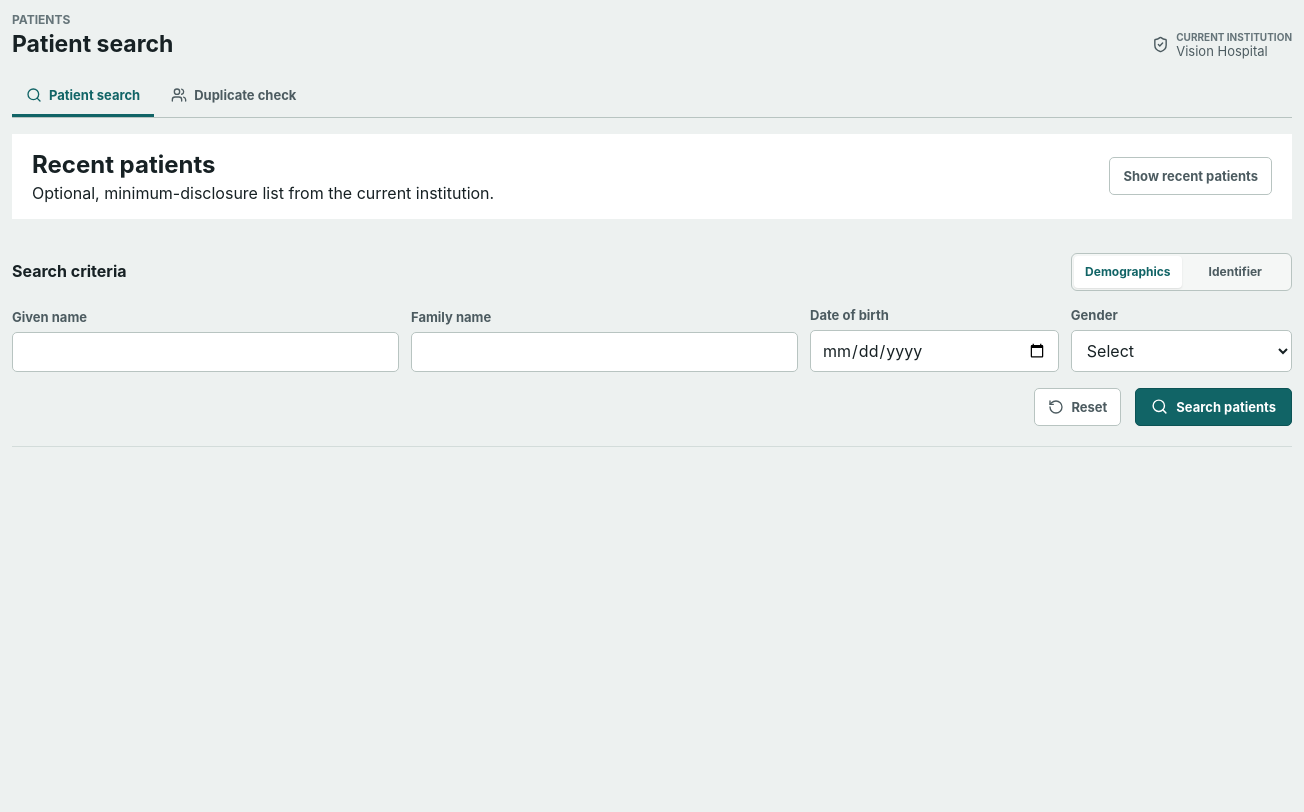
Test: PatientSearchPage › submits structured demographic criteria and renders minimum-disclosure results
The image size is (1304, 812).
In the field labelled "Family name": (604, 352) [411,332,798,372], type "Patient"
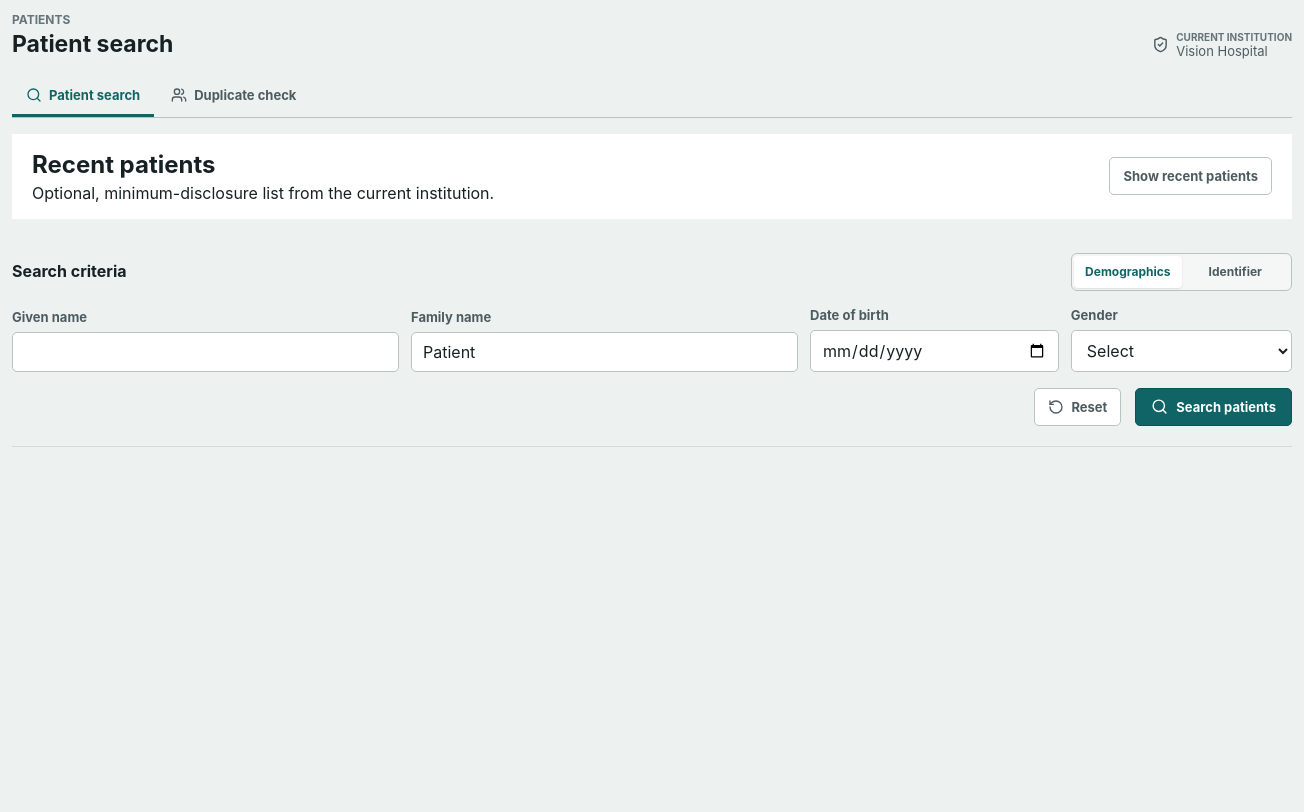
In the date field labelled "Date of birth": (934, 351) [810,330,1059,372], type "1980-02-03"
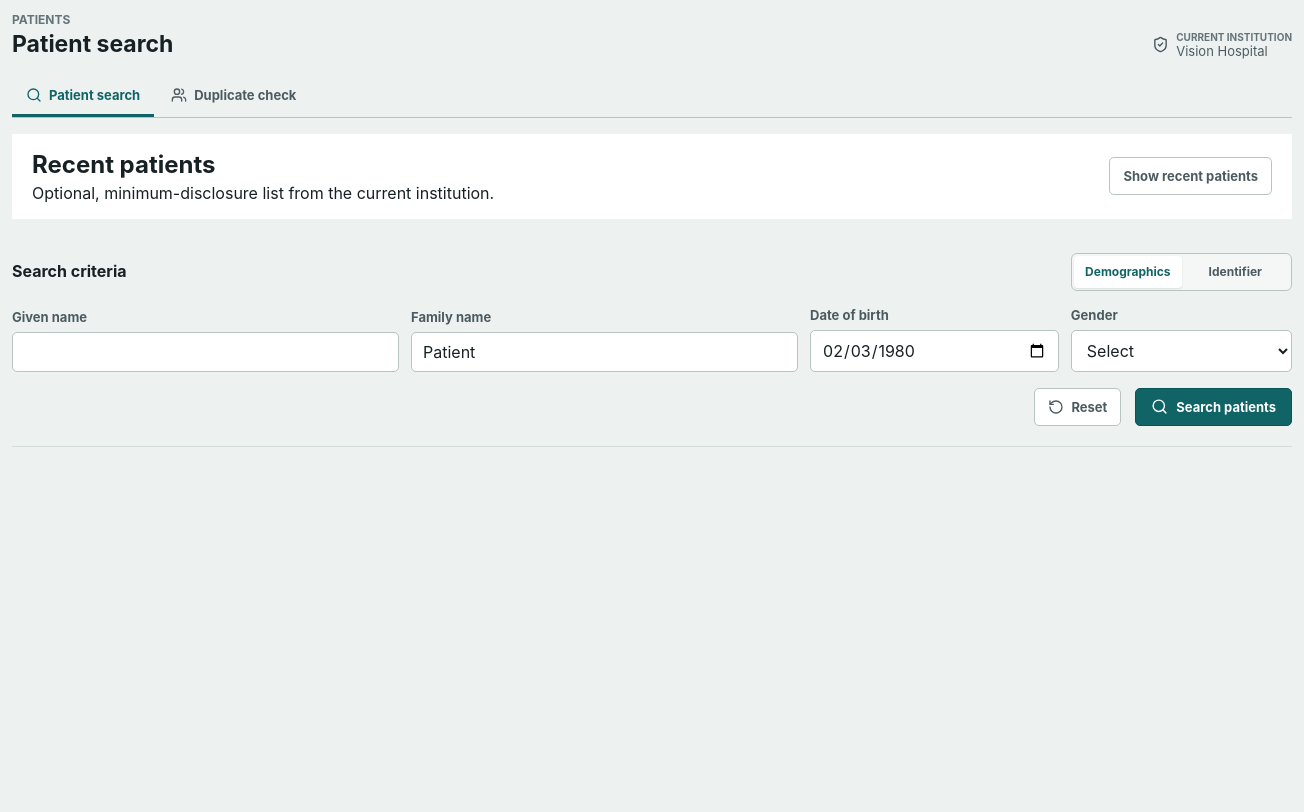
Select "Female" in the dropdown labelled "Gender": (1181, 351) [1071,330,1292,372]
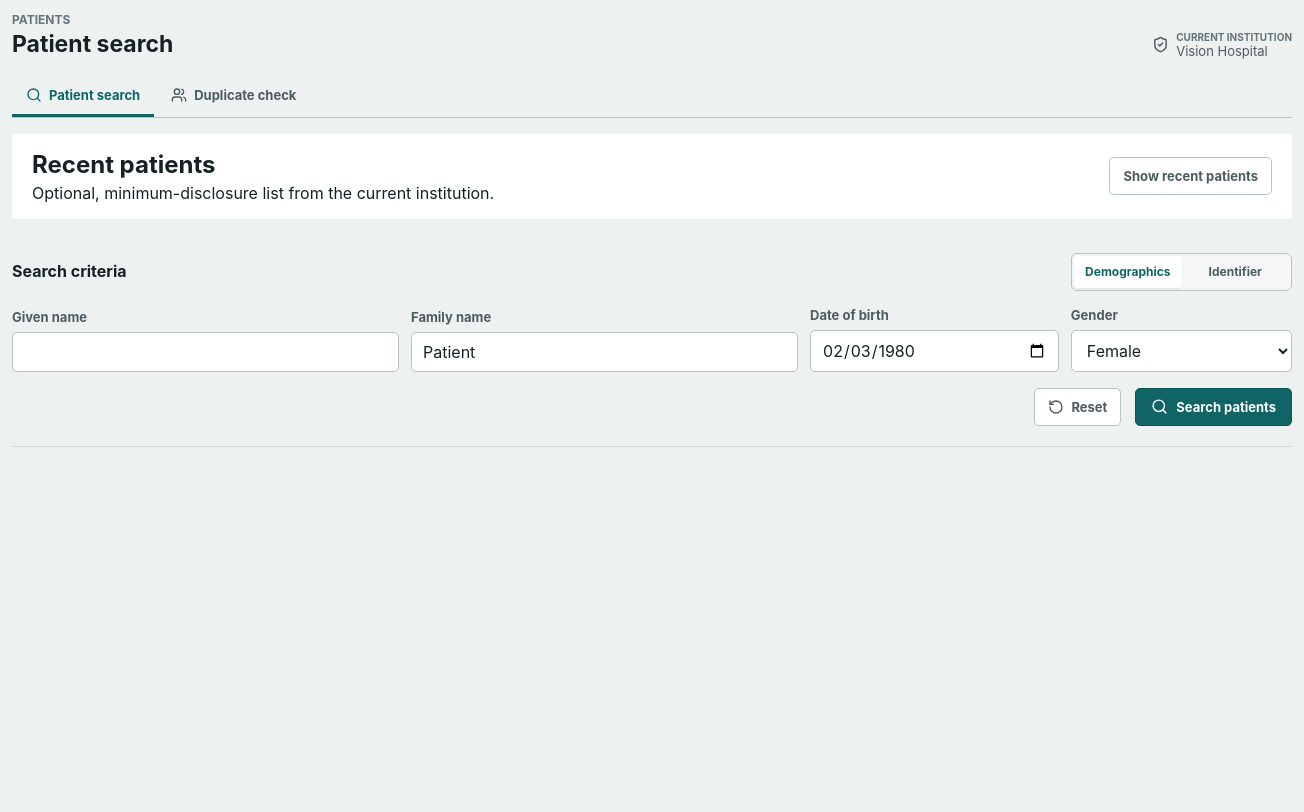
Click the button "Search patients": (1214, 407) [1135,388,1292,426]
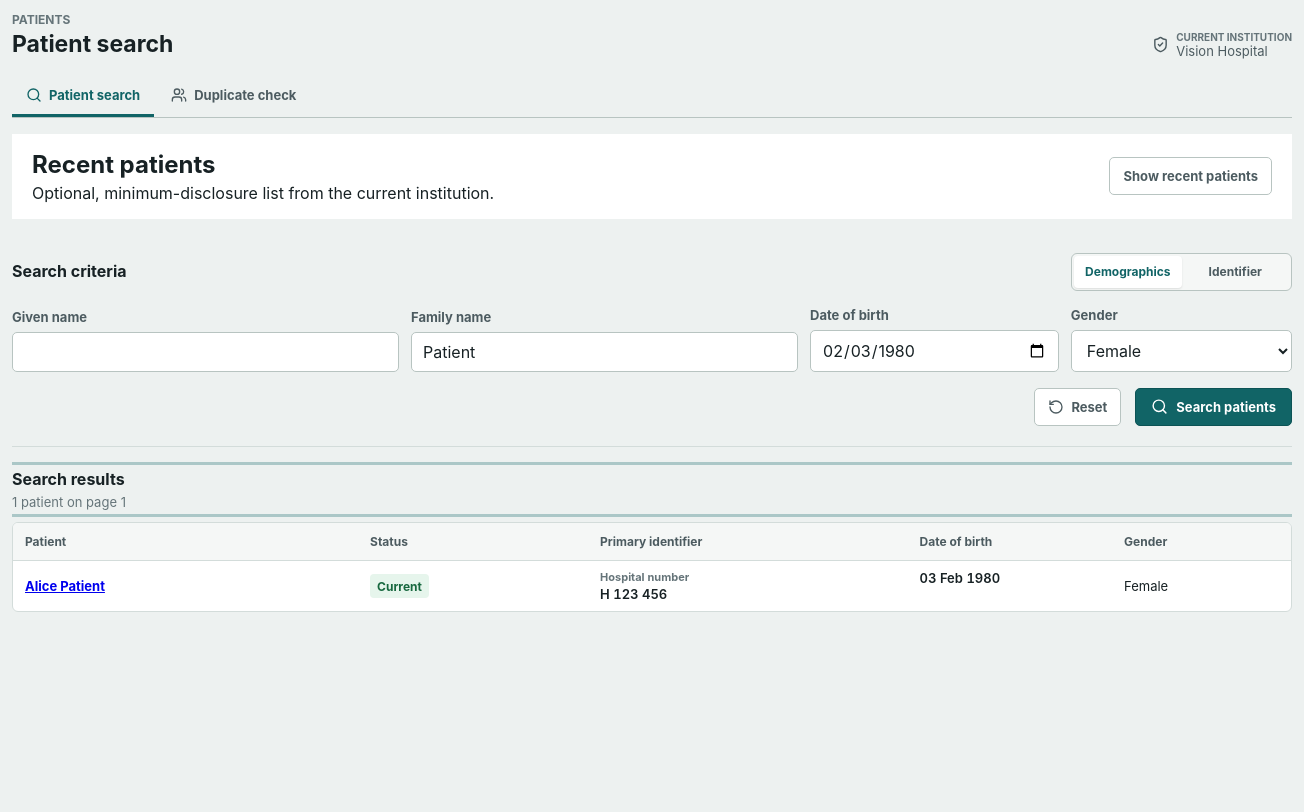
expect the text "Alice Patient" is shown: met, box [25,578,105,594]
expect the text "H 123 456" is shown: met, box [600,586,667,602]
Replace the text in the field labelled "Family name" with "Changed": (604, 352) [411,332,798,372]
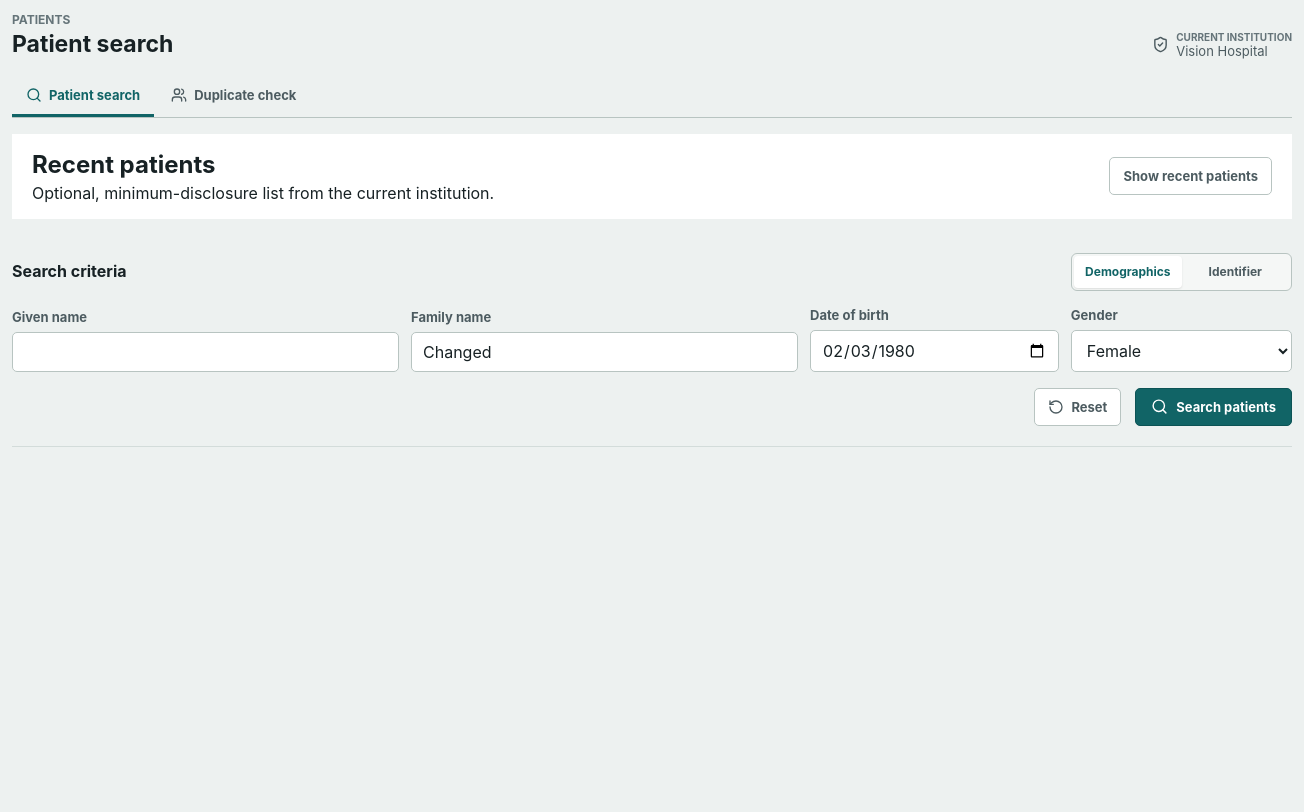
expect the link "Alice Patient" is gone: met
Click the button "Reset": (1078, 407) [1034,388,1121,426]
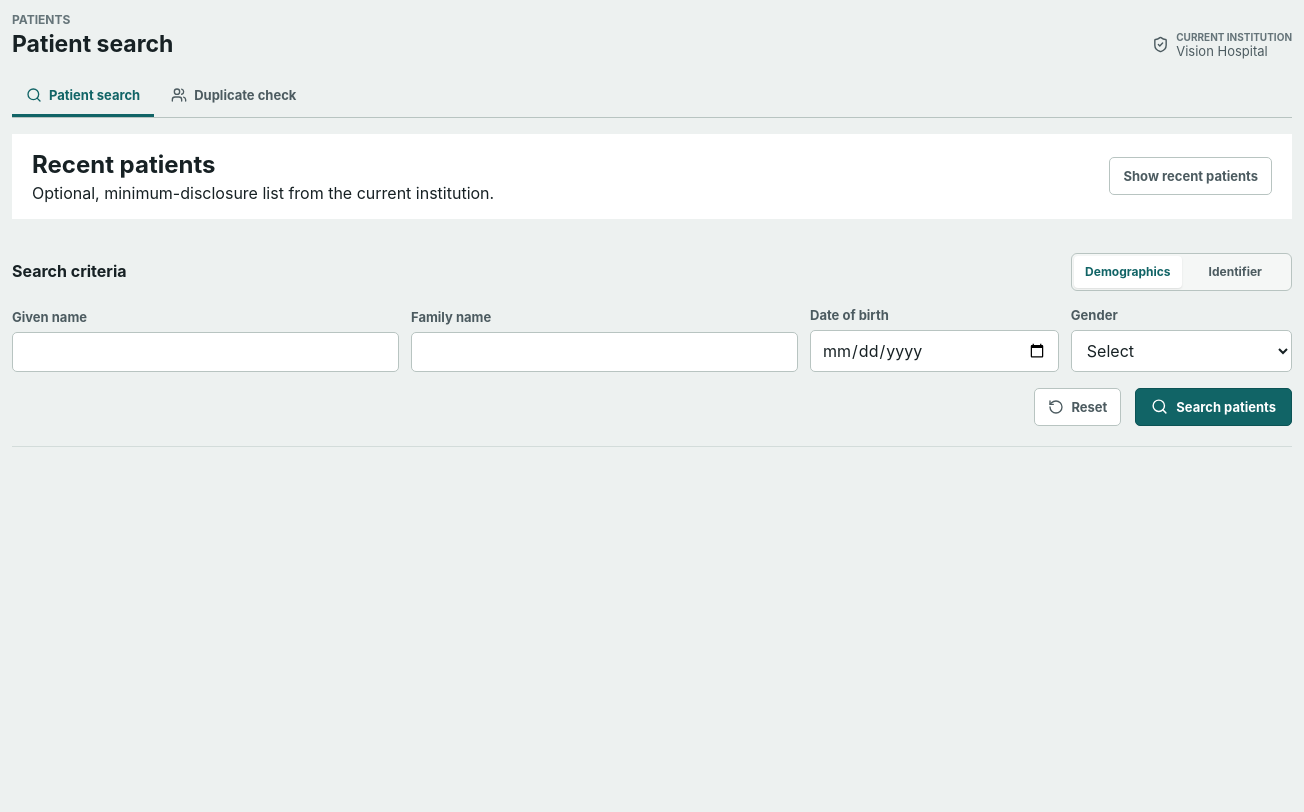
expect the field labelled "Family name" is empty: met, box [411,332,798,372]
